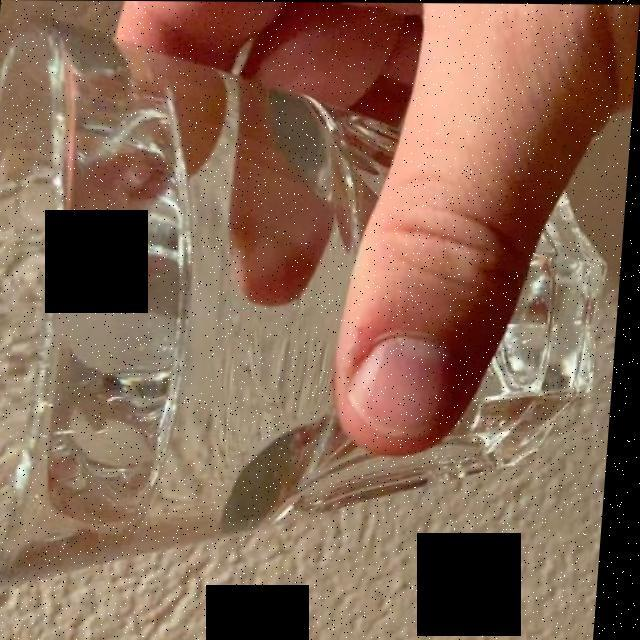water: (24, 49, 604, 590), (47, 32, 600, 581), (30, 64, 619, 579), (13, 59, 607, 560), (57, 51, 609, 590), (19, 49, 592, 568), (38, 52, 601, 571), (49, 56, 613, 565), (44, 38, 604, 550), (26, 80, 601, 576), (25, 70, 590, 573), (43, 70, 602, 569), (38, 92, 611, 573), (37, 70, 604, 553), (56, 69, 612, 560), (47, 44, 606, 532), (48, 44, 587, 546), (59, 61, 612, 550), (44, 86, 591, 565), (23, 89, 585, 553), (36, 81, 595, 545)
